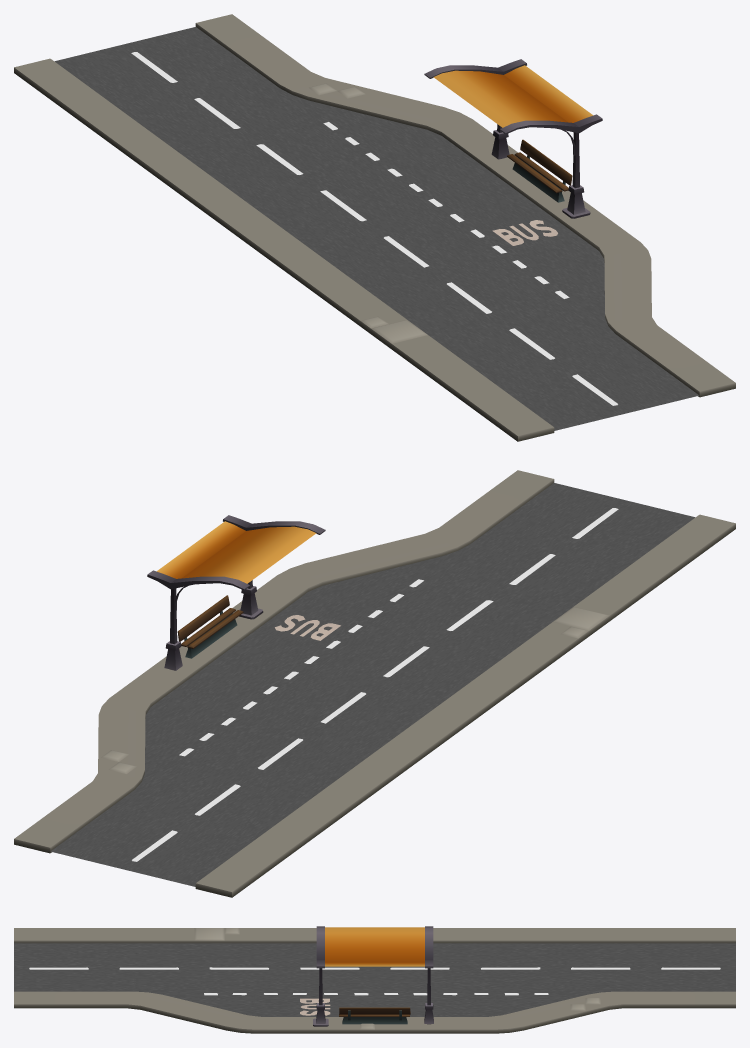
Rendered from Road11.fbx.
3 renders of one model, top to bottom at view 1: azimuth 30°, elevation 25°; view 2: azimuth 150°, elevation 25°; view 3: azimuth 270°, elevation 25°, orthographic. The views are drawn at different scales.
Visible parts, largest first — view 1: Road_1S; view 2: Road_1S; view 3: Road_1S.
Part boxes in pixels (box(x1,y1,x2,y2)): Road_1S: box(14, 14, 735, 441); Road_1S: box(14, 470, 735, 897); Road_1S: box(14, 926, 735, 1033).
Size of the model in its own units: 30454 by 10599 by 89693.
